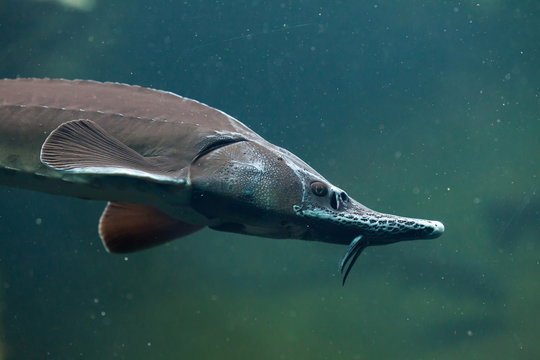Sturgeon: (2, 52, 482, 320)
